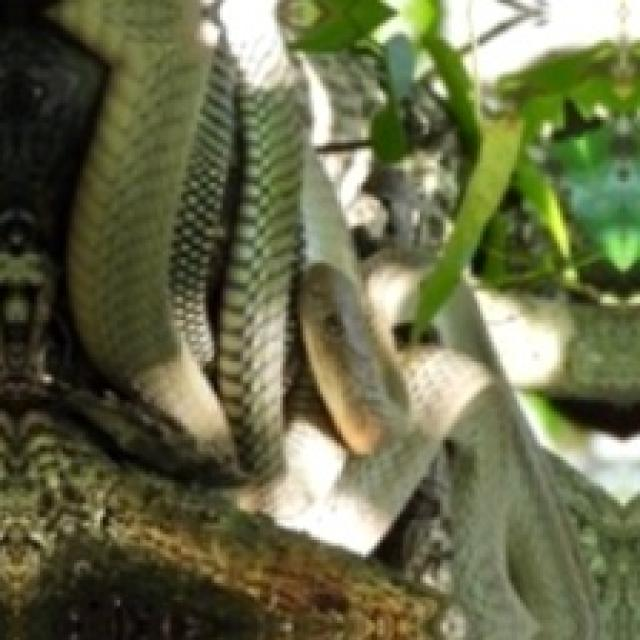king cobra: (0, 0, 303, 480)
